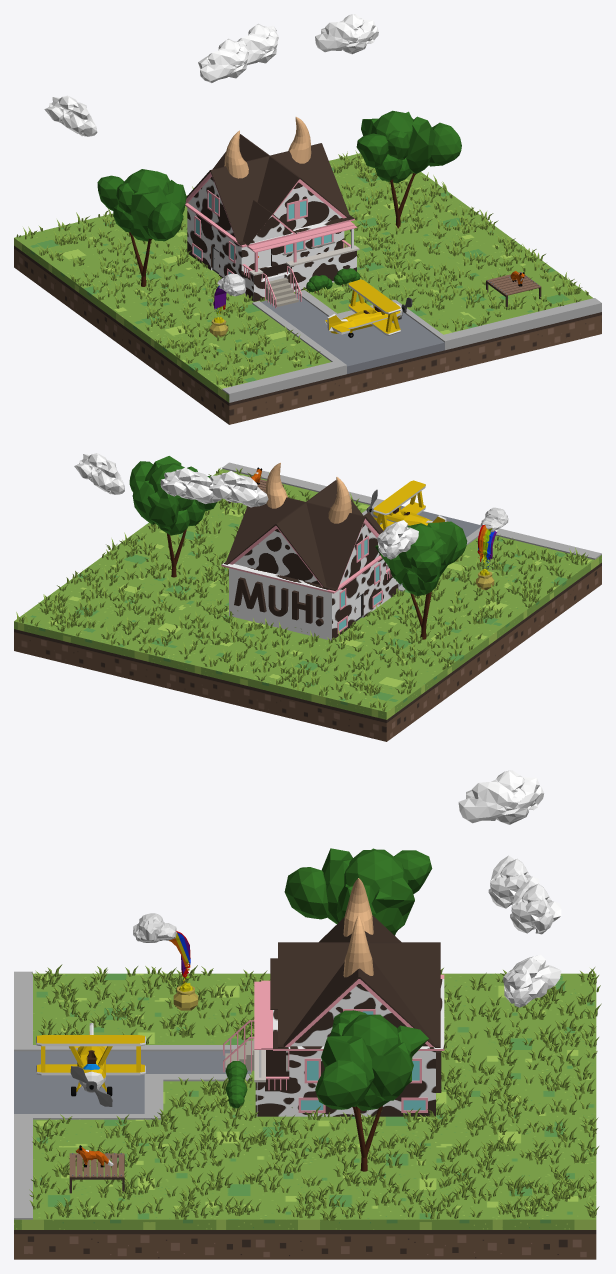
3 views of the same model, one above another, from view 1: azimuth 30°, elevation 25°; view 2: azimuth 150°, elevation 25°; view 3: azimuth 270°, elevation 25° (orthographic). The views are drawn at different scales.
Visible parts, largest first — view 1: Cube.006, Cube.1242, Circle.012_Grass_0.192, Cube.007, tree, tree.001, VEHICLES_AIRPLANE, OBJRANDOM_RAINBOW, Cube.009; view 2: Cube.006, Cube.1242, Circle.012_Grass_0.192, Cube.007, tree.001, tree, VEHICLES_AIRPLANE, OBJRANDOM_RAINBOW; view 3: Cube.006, Circle.012_Grass_0.192, Cube.1242, tree, Cube.007, tree.001, VEHICLES_AIRPLANE, OBJRANDOM_RAINBOW, Cube.009.
Boxes of the visible parts, box(x1,y1,x2,y2) form: Cube.006: box(14, 153, 601, 424); Cube.1242: box(185, 117, 359, 308); Circle.012_Grass_0.192: box(16, 150, 588, 386); Cube.007: box(44, 14, 378, 136); tree: box(356, 110, 461, 228); tree.001: box(97, 169, 186, 286); VEHICLES_AIRPLANE: box(325, 279, 412, 337); OBJRANDOM_RAINBOW: box(209, 273, 246, 337); Cube.009: box(486, 272, 541, 306); Cube.006: box(14, 462, 601, 741); Cube.1242: box(221, 462, 398, 640); Circle.012_Grass_0.192: box(16, 468, 588, 711); Cube.007: box(74, 453, 418, 559); tree.001: box(375, 521, 467, 639); tree: box(129, 456, 216, 577); VEHICLES_AIRPLANE: box(366, 480, 447, 530); OBJRANDOM_RAINBOW: box(475, 507, 508, 590); Cube.006: box(14, 971, 596, 1259); Circle.012_Grass_0.192: box(29, 964, 601, 1220); Cube.1242: box(223, 878, 444, 1116); tree: box(315, 1010, 428, 1171); Cube.007: box(458, 770, 561, 1007); tree.001: box(284, 848, 432, 935); VEHICLES_AIRPLANE: box(36, 1023, 145, 1106); OBJRANDOM_RAINBOW: box(133, 913, 198, 1010); Cube.009: box(69, 1153, 124, 1193).
Size of the model in its own units: 4071 by 2198 by 4040.
Materials: 46 (4 with a texture image).
